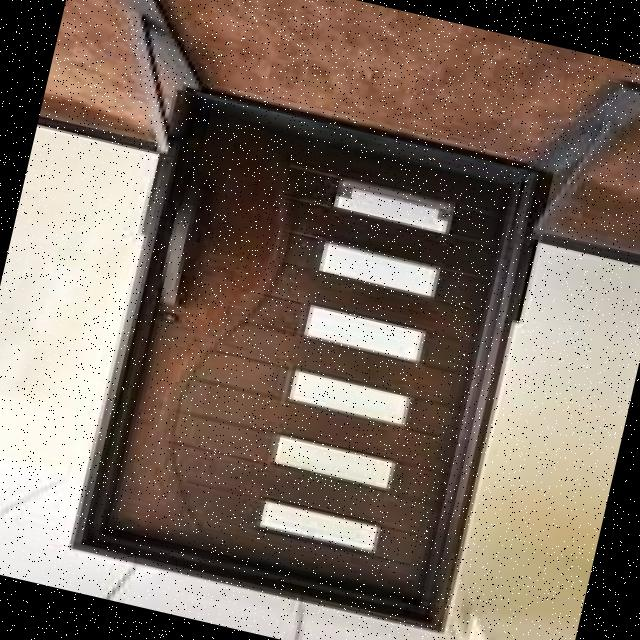Door: (69, 83, 552, 631)
